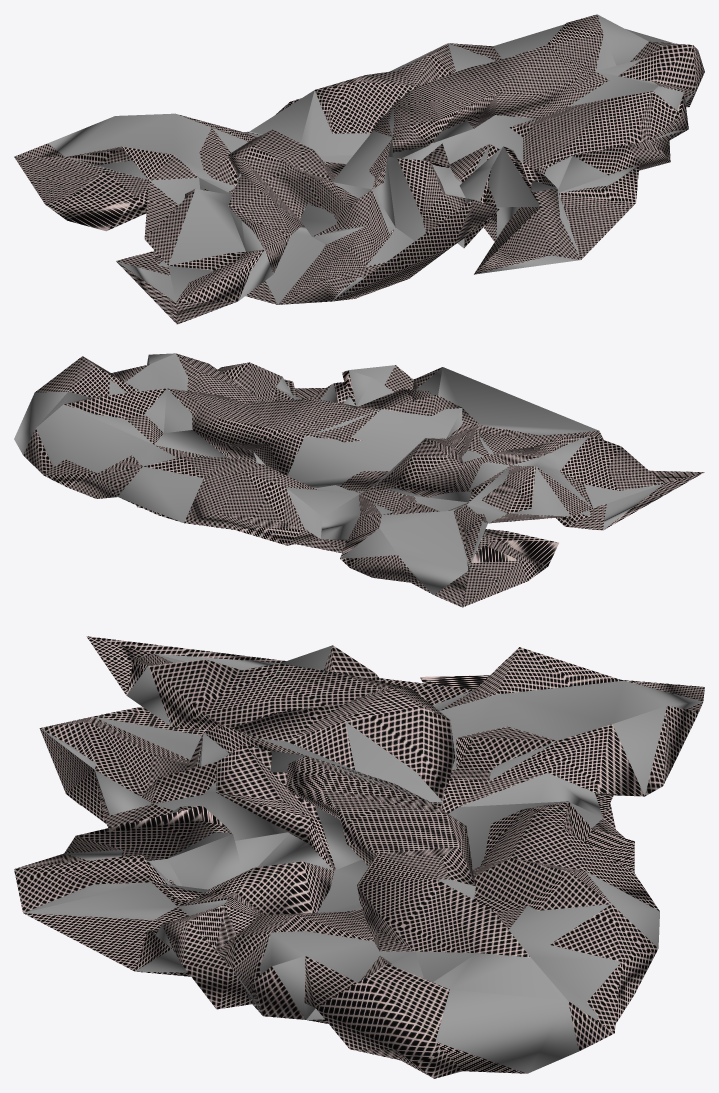
File: si_fishnet_a.DAE
The picture shows the model from 3 angles, top to bottom: view 1: azimuth 30°, elevation 25°; view 2: azimuth 150°, elevation 25°; view 3: azimuth 270°, elevation 25°; orthographic projection. The views are drawn at different scales.
Visible parts, largest first — view 1: si_fishnet_a120, si_fishnet_a30; view 2: si_fishnet_a120, si_fishnet_a30; view 3: si_fishnet_a120, si_fishnet_a30.
Part boxes in pixels (x1,y1,x2,y2): si_fishnet_a120: [14, 14, 704, 324]; si_fishnet_a30: [48, 14, 695, 304]; si_fishnet_a120: [23, 353, 704, 607]; si_fishnet_a30: [14, 353, 663, 594]; si_fishnet_a120: [14, 636, 704, 1078]; si_fishnet_a30: [24, 645, 702, 1073].
Bounding box in the file's own units: 201 × 133 × 24.36.
